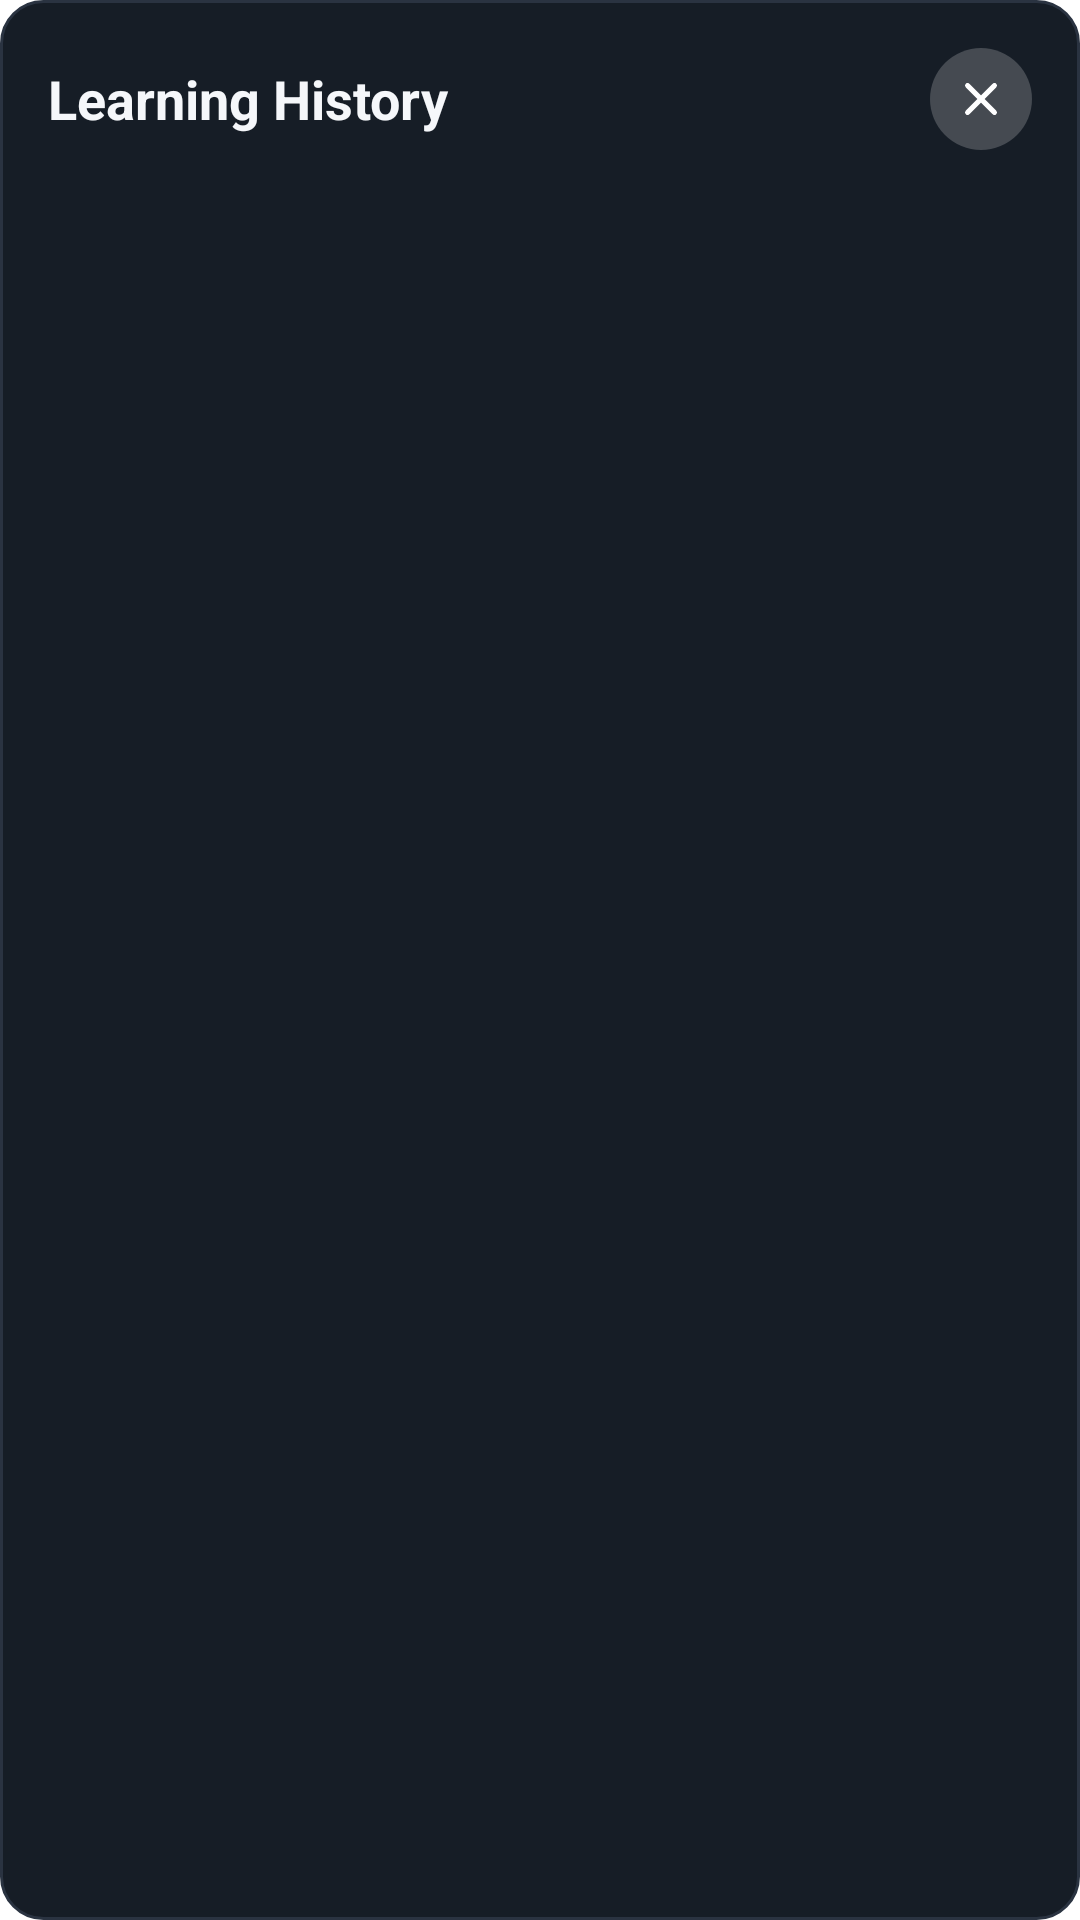

Screen size 1080px x 1920px. Icon name, then its box in pixels as (x1, y1, x2, y2):
Close: (930, 48, 1032, 150)
